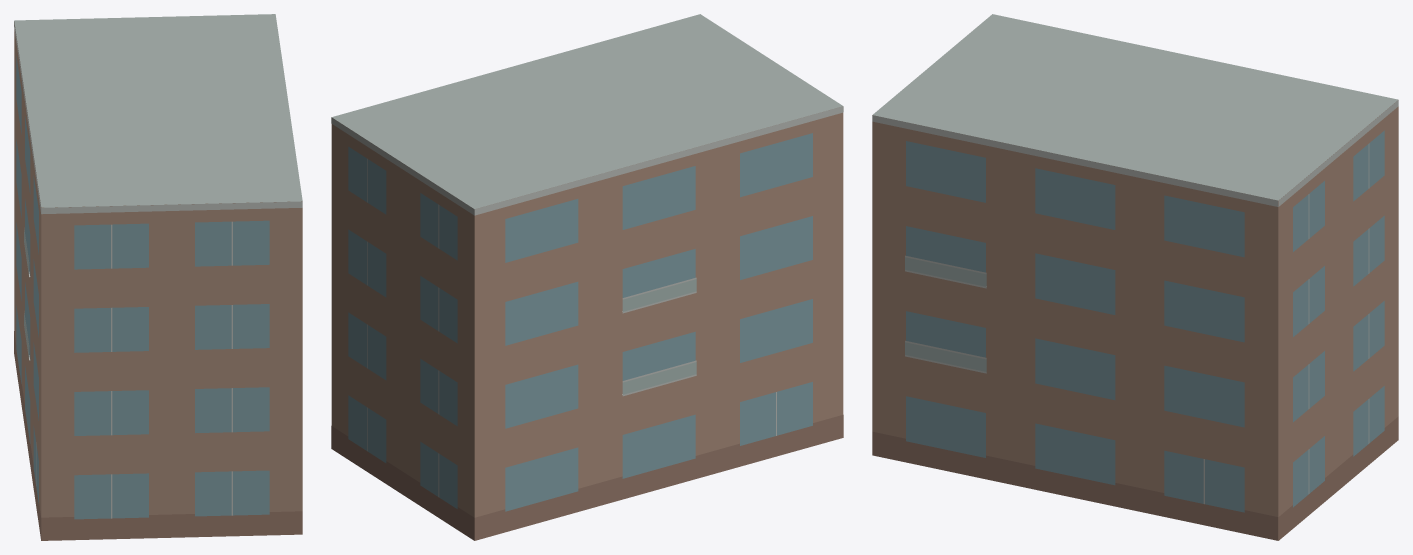
Rendered from survey-upis-32999433.glb.
3 views of the same model, side by side, from view 1: azimuth 30°, elevation 25°; view 2: azimuth 150°, elevation 25°; view 3: azimuth 270°, elevation 25° (orthographic). The views are drawn at different scales.
Parts seen in each view (by area): view 1: survey-upis-32999433.tmp; view 2: survey-upis-32999433.tmp; view 3: survey-upis-32999433.tmp.
Boxes of the visible parts, bbox=[...] form: survey-upis-32999433.tmp: bbox=[14, 14, 302, 540]; survey-upis-32999433.tmp: bbox=[331, 14, 843, 540]; survey-upis-32999433.tmp: bbox=[872, 14, 1398, 540].
Size of the model in its own units: 14.94 by 12.7 by 17.81.
